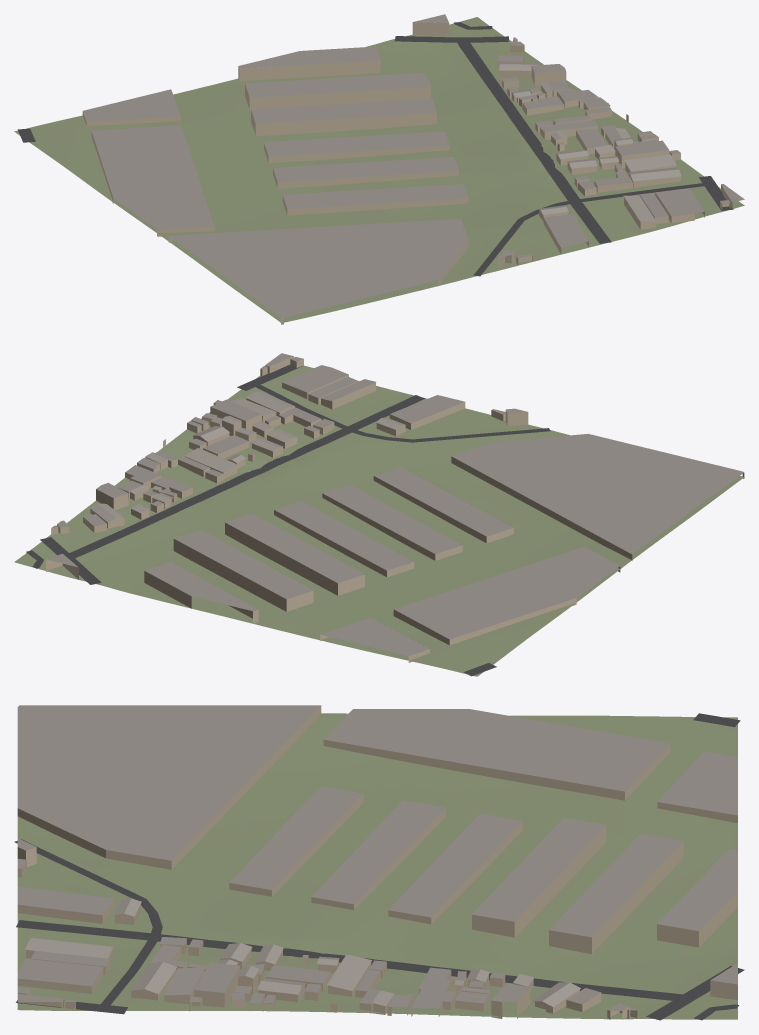
The picture shows the model from 3 angles, top to bottom: view 1: azimuth 30°, elevation 25°; view 2: azimuth 150°, elevation 25°; view 3: azimuth 270°, elevation 25°; orthographic projection. The views are drawn at different scales.
Parts seen in each view (by area): view 1: roofs, ground, walls, road, sheetRoofs; view 2: ground, roofs, walls, road, sheetRoofs; view 3: ground, roofs, walls, road, sheetRoofs.
Part boxes in pixels (x1,y1,x2,y2): roofs: [83, 14, 744, 317]; ground: [14, 17, 744, 323]; walls: [82, 22, 732, 324]; road: [17, 22, 733, 276]; sheetRoofs: [499, 62, 681, 221]; ground: [14, 365, 744, 676]; roofs: [46, 353, 743, 655]; walls: [46, 356, 744, 662]; road: [26, 364, 550, 676]; sheetRoofs: [90, 379, 405, 521]; ground: [17, 713, 737, 1019]; roofs: [17, 705, 737, 1010]; walls: [17, 705, 737, 1019]; road: [14, 713, 744, 1020]; sheetRoofs: [25, 898, 580, 1006].
Size of the model in its own units: 256 by 11.96 by 254.
